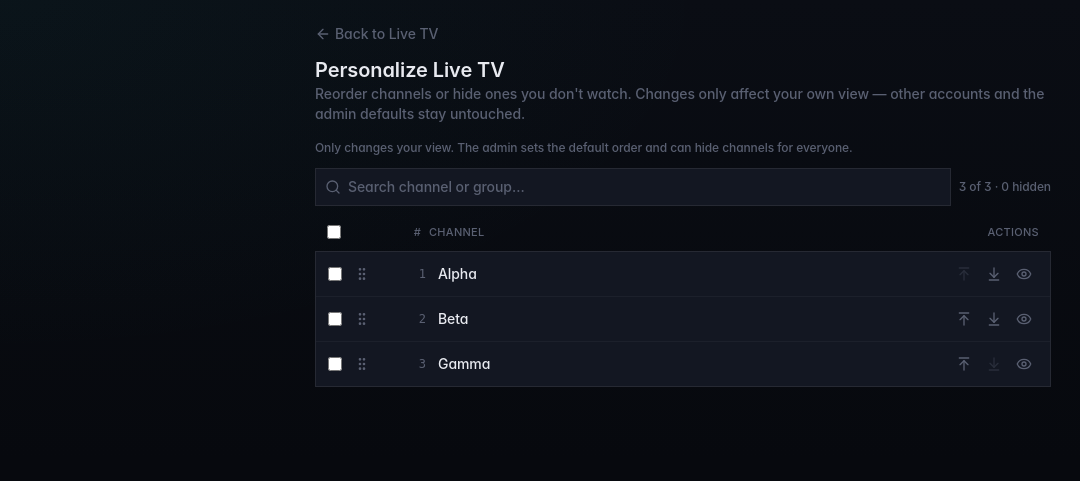
it: LiveTvCustomize › submits the current order + hidden set on save
// Hide Beta.
Click the button named "Hide for me" in the row of "Beta". click: (1024, 318)
box: [1010,304,1038,332]
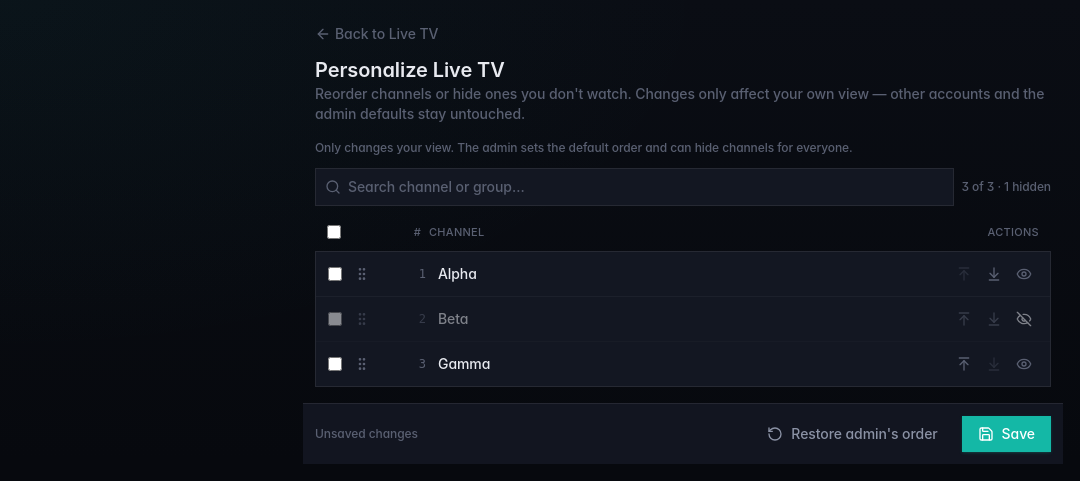
// Move Gamma to the top.
Click the button named "Move to top" in the row of "Gamma". click: (964, 364)
box: [950,350,978,378]
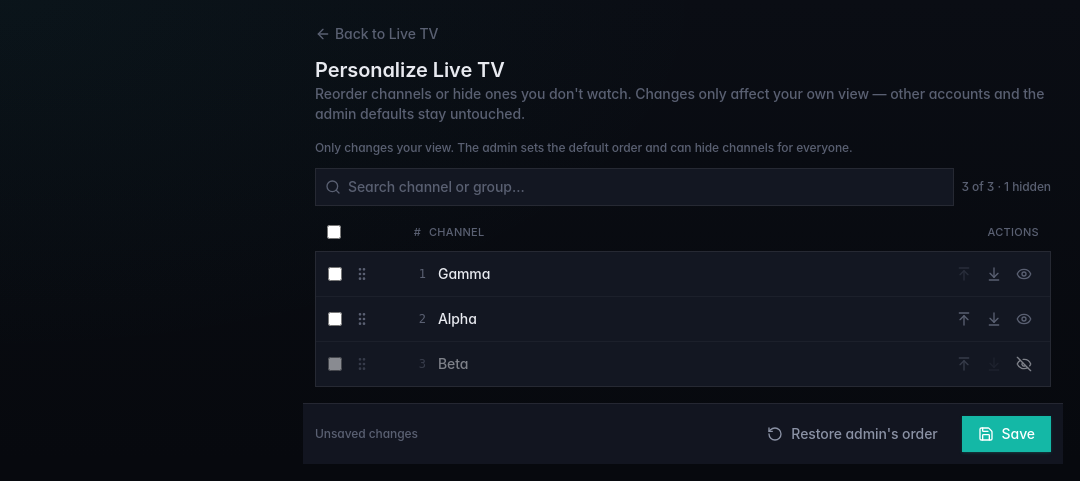
Click the button "Save". click: (1006, 434)
box: [962,416,1051,452]
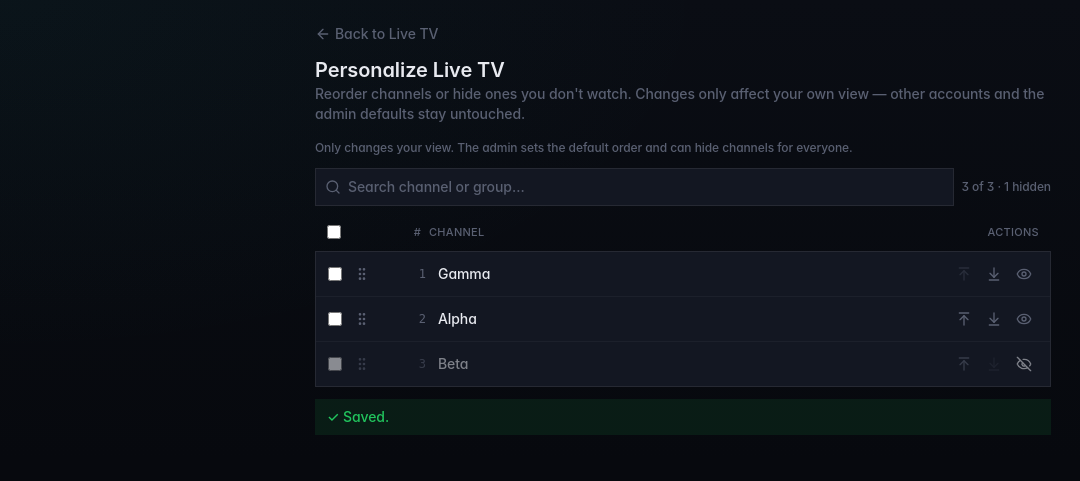
Now the text "✓ Saved." is shown, box [315,398,1051,434]
